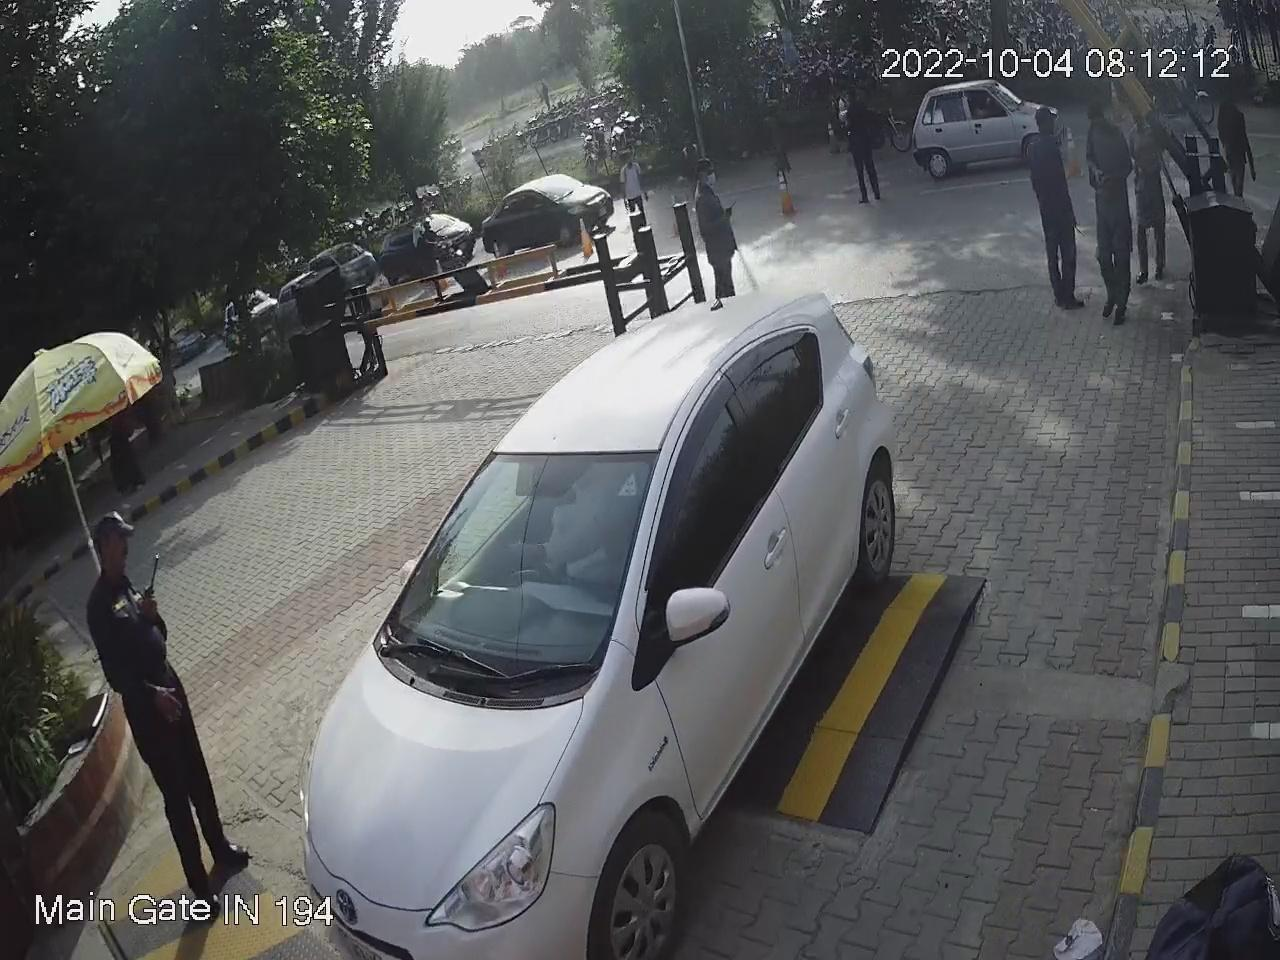windshield: (378, 438, 661, 700)
